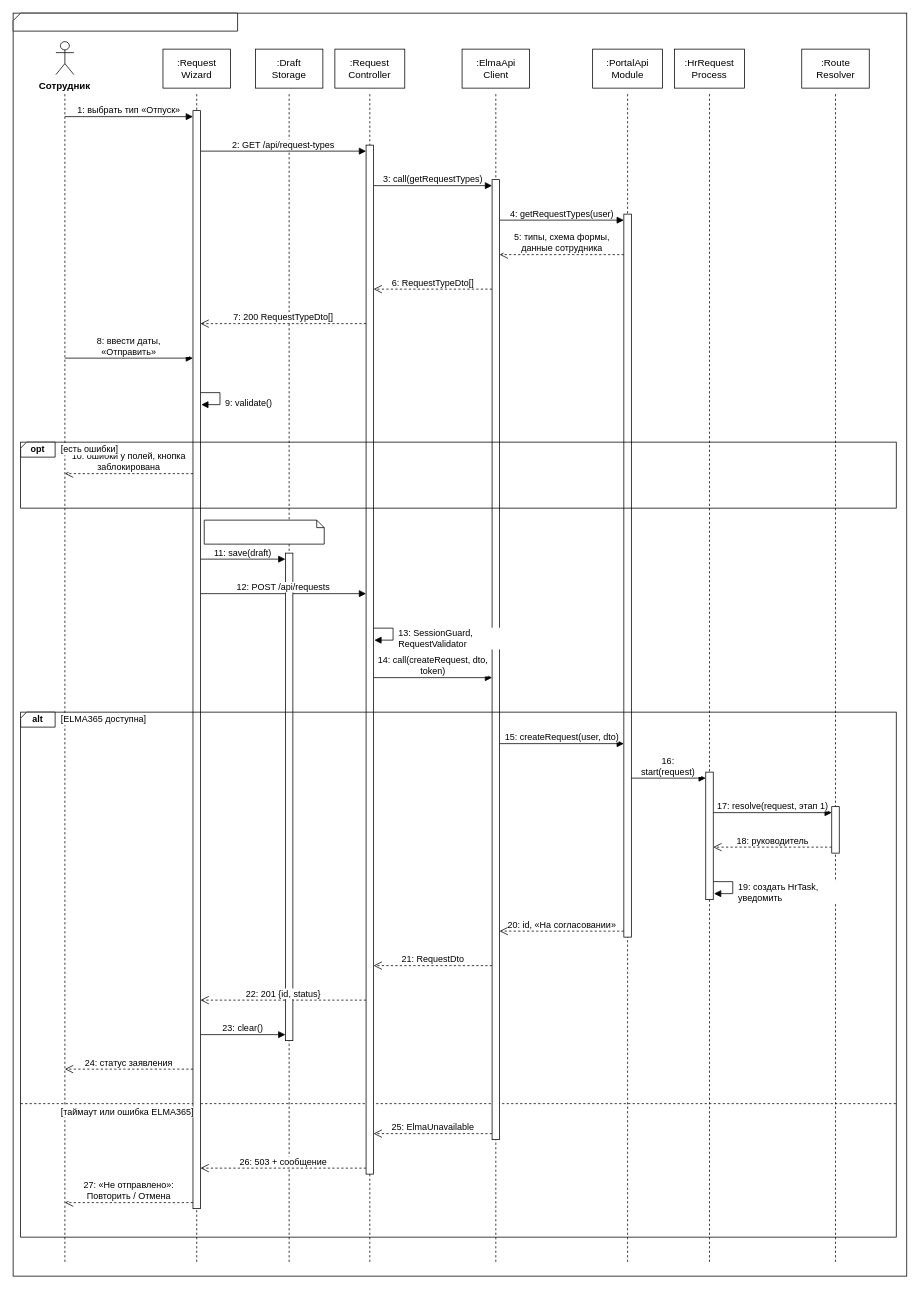
The diagram is 920 pixels wide and 1289 high, and some of its shapes have lost their labels. The shapes that lost their labels are listed below. From the top down, each one's centre as x and y in pixels, then its label:
point 125,21: sd UC-1 Подача заявления на отпуск
point 263,531: данные формы корректны
